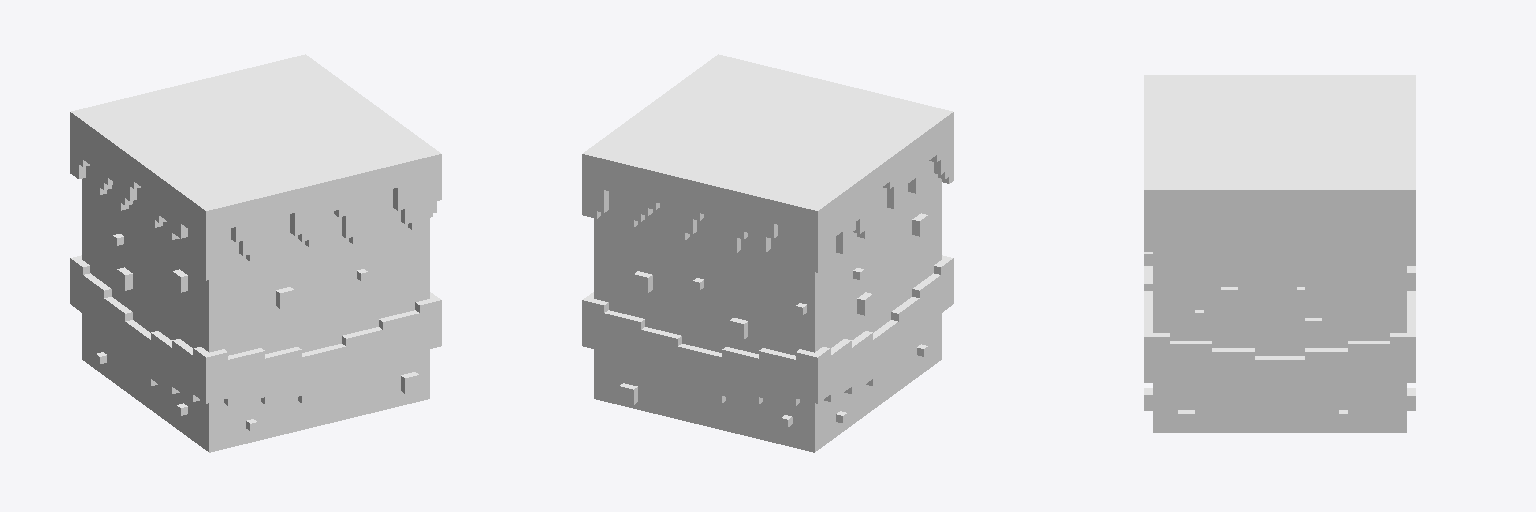
Rendered from Bloc.obj.
3 renders of one model, left to right at view 1: azimuth 30°, elevation 25°; view 2: azimuth 150°, elevation 25°; view 3: azimuth 270°, elevation 25°, orthographic.
Visible parts, largest first — view 1: object 1; view 2: object 1; view 3: object 1.
Part boxes in pixels (left/top/right/bottom): object 1: left=70, top=54, right=441, bottom=452; object 1: left=582, top=54, right=953, bottom=452; object 1: left=1144, top=75, right=1415, bottom=432.
Size of the model in its own units: 3.2 by 3.2 by 3.2.